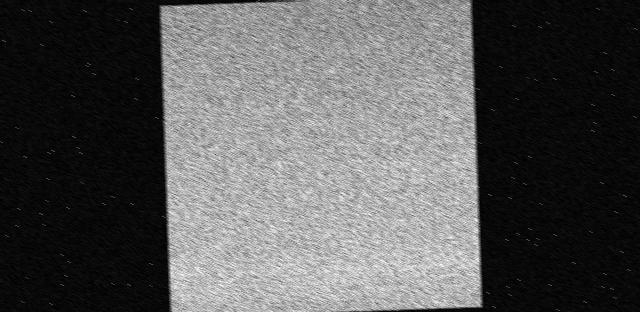silk_spot: (162, 77, 465, 234)
